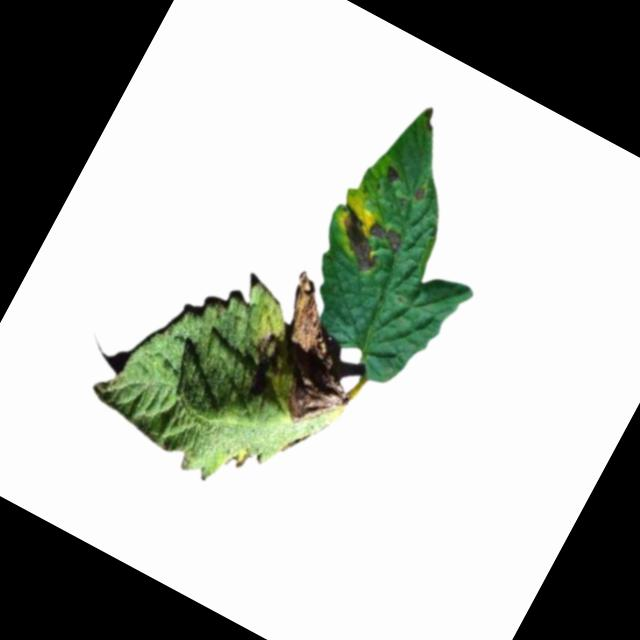Early_blight: (236, 269, 393, 442), (320, 200, 396, 277), (365, 218, 409, 255), (412, 180, 431, 203)
